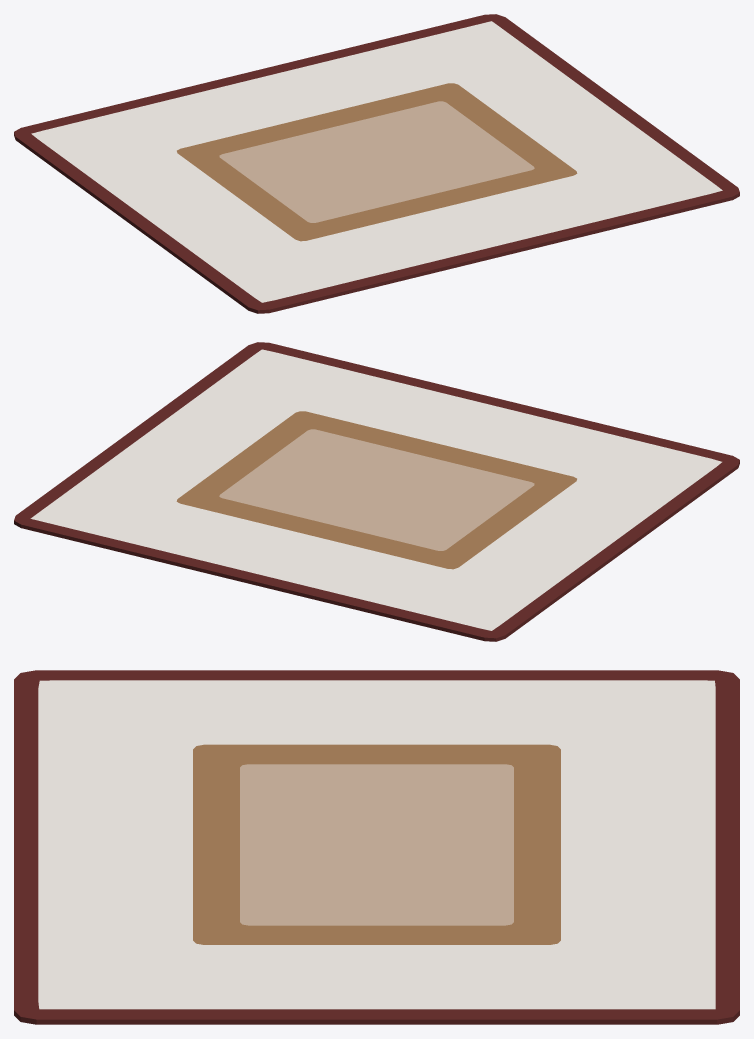
File: SM_Carpet_01.glb
3 renders of one model, top to bottom at view 1: azimuth 30°, elevation 25°; view 2: azimuth 150°, elevation 25°; view 3: azimuth 270°, elevation 25°, orthographic. The views are drawn at different scales.
Parts seen in each view (by area): view 1: SM_Carpet_01; view 2: SM_Carpet_01; view 3: SM_Carpet_01.
Boxes of the visible parts, <box> form: SM_Carpet_01: <box>14,14,739,313</box>; SM_Carpet_01: <box>14,342,739,641</box>; SM_Carpet_01: <box>14,670,739,1024</box>.
Bounding box in the file's own units: 3.02 × 0.0211 × 2.66.
Materials: 1 (1 with a texture image).
